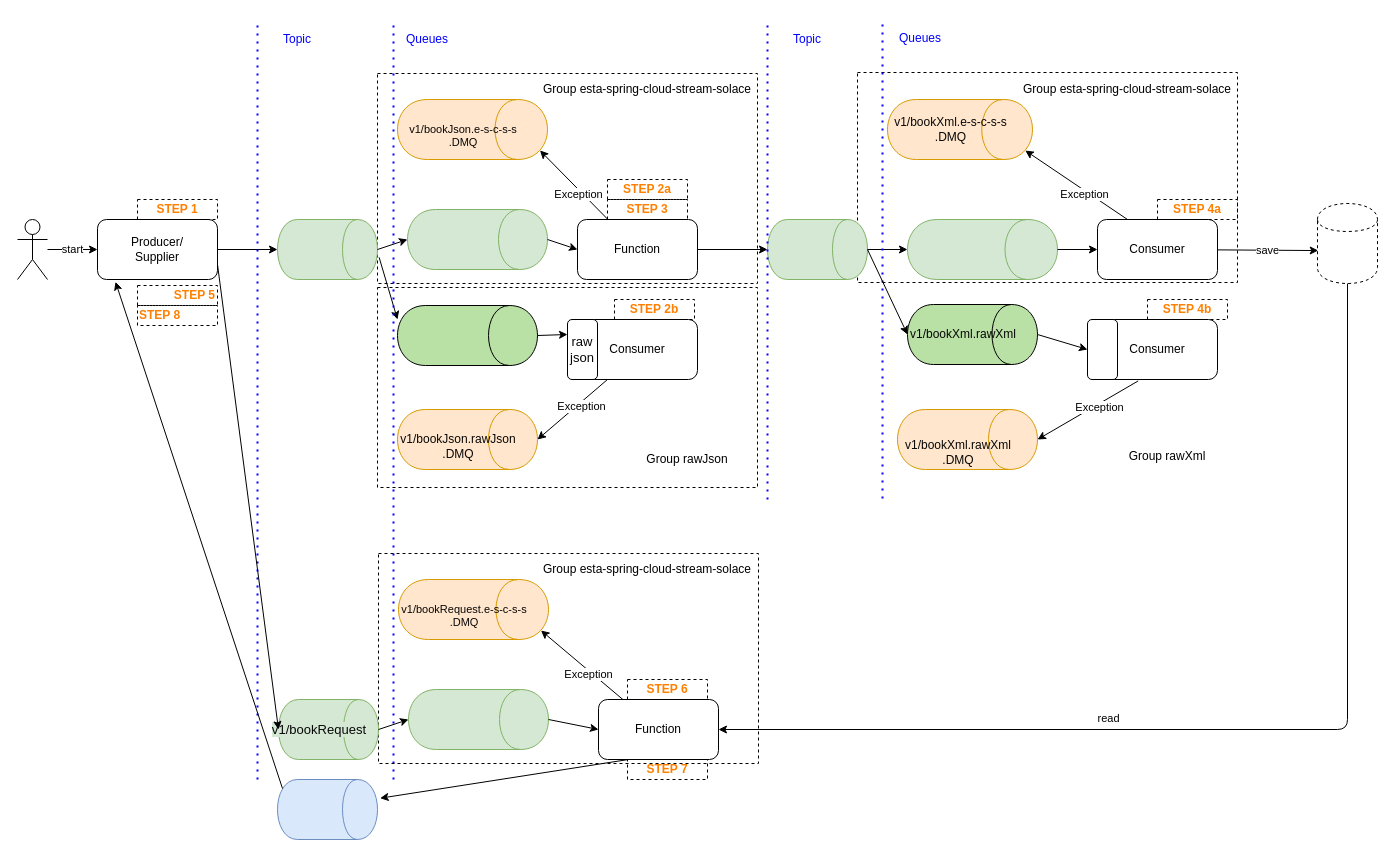
Image size: 1395x857. Some labels were removed from this diagram. The box of each missing label's shape, as (x1, y1, x2, y2) in pixels:
Actor: (16, 218, 48, 280)
Book Cache: (1316, 202, 1378, 284)
raw xml: (1086, 318, 1118, 380)
v1/bookJson: (276, 218, 378, 280)
v1/bookJson.e-s-c-s-s: (406, 208, 548, 270)
v1/bookJson.rawJson: (396, 304, 538, 366)
v1/bookRequest.e-s-c-s-s: (408, 688, 548, 750)
v1/bookResponse/${responseId}: (276, 778, 378, 840)
v1/bookXml: (766, 218, 868, 280)
v1/bookXml.esta-s-c-s-s: (906, 218, 1058, 280)
